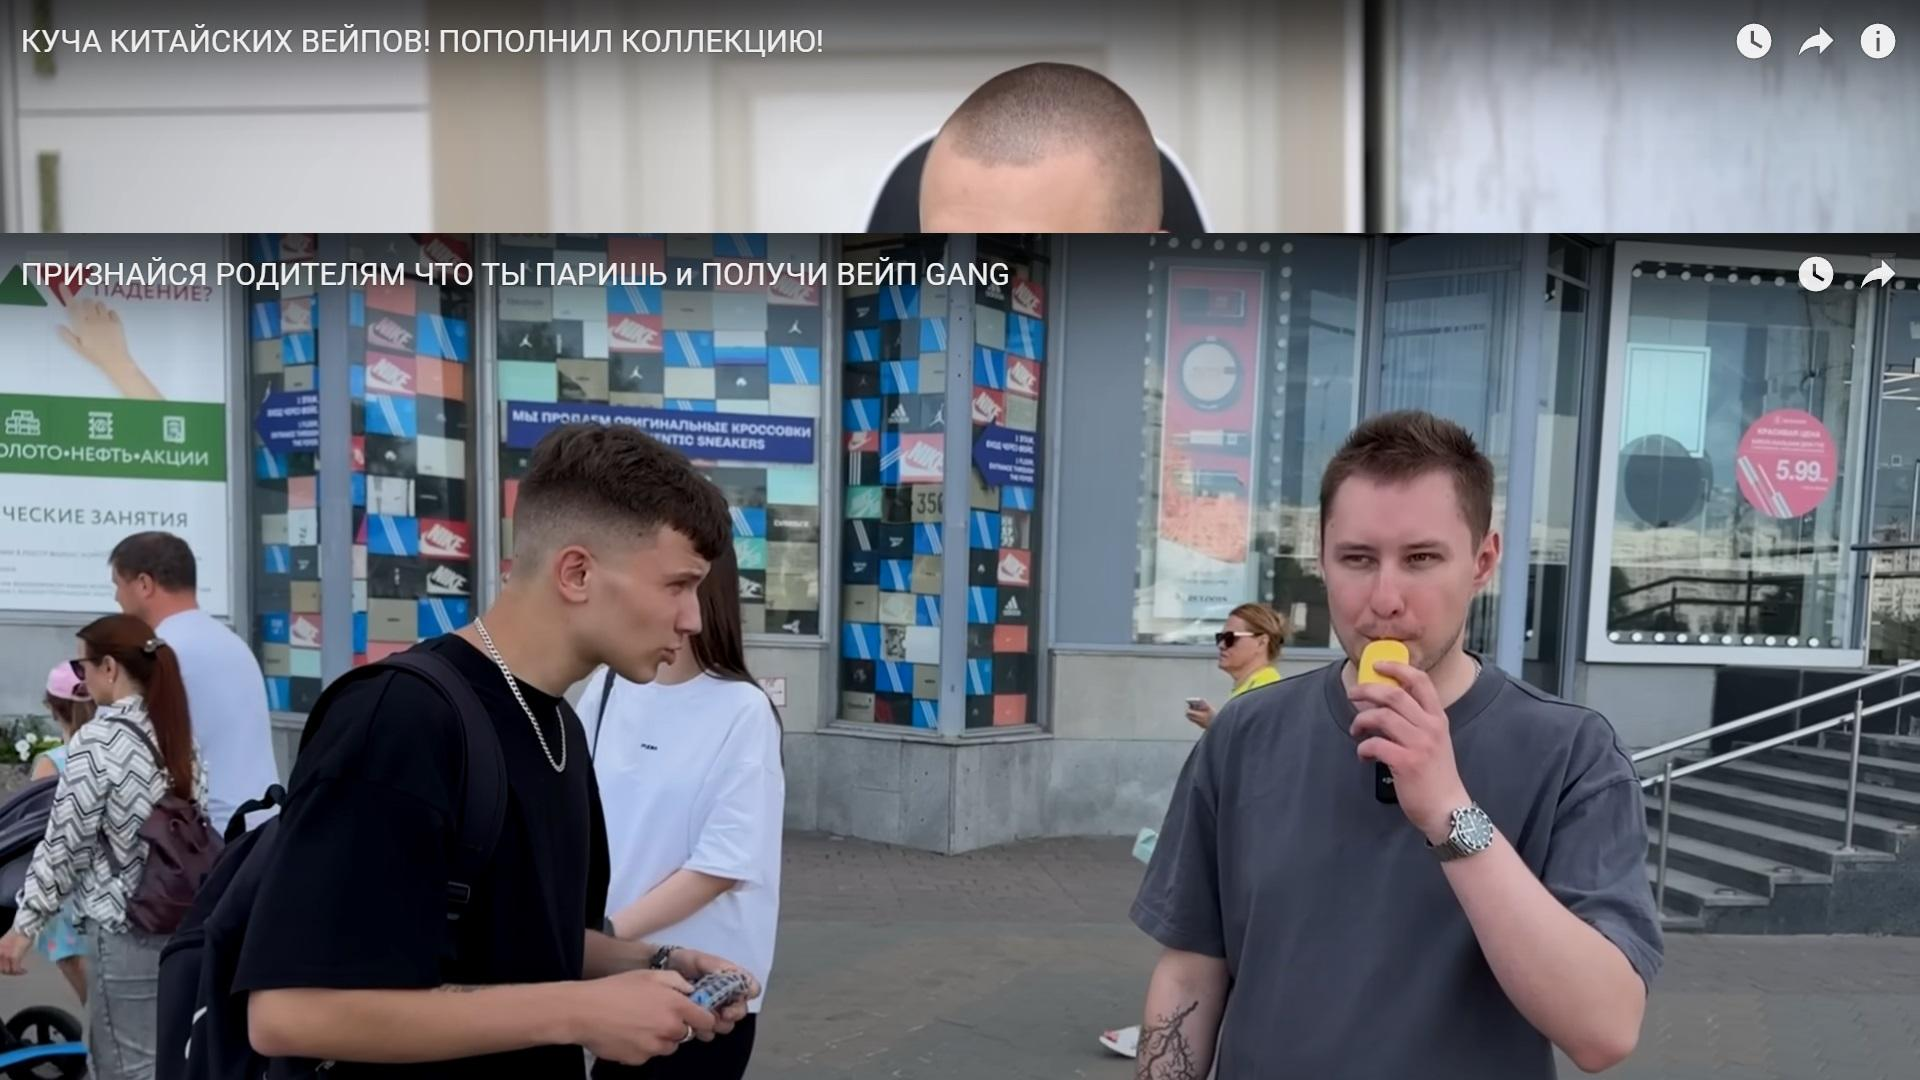Vape: (1357, 640, 1408, 686)
